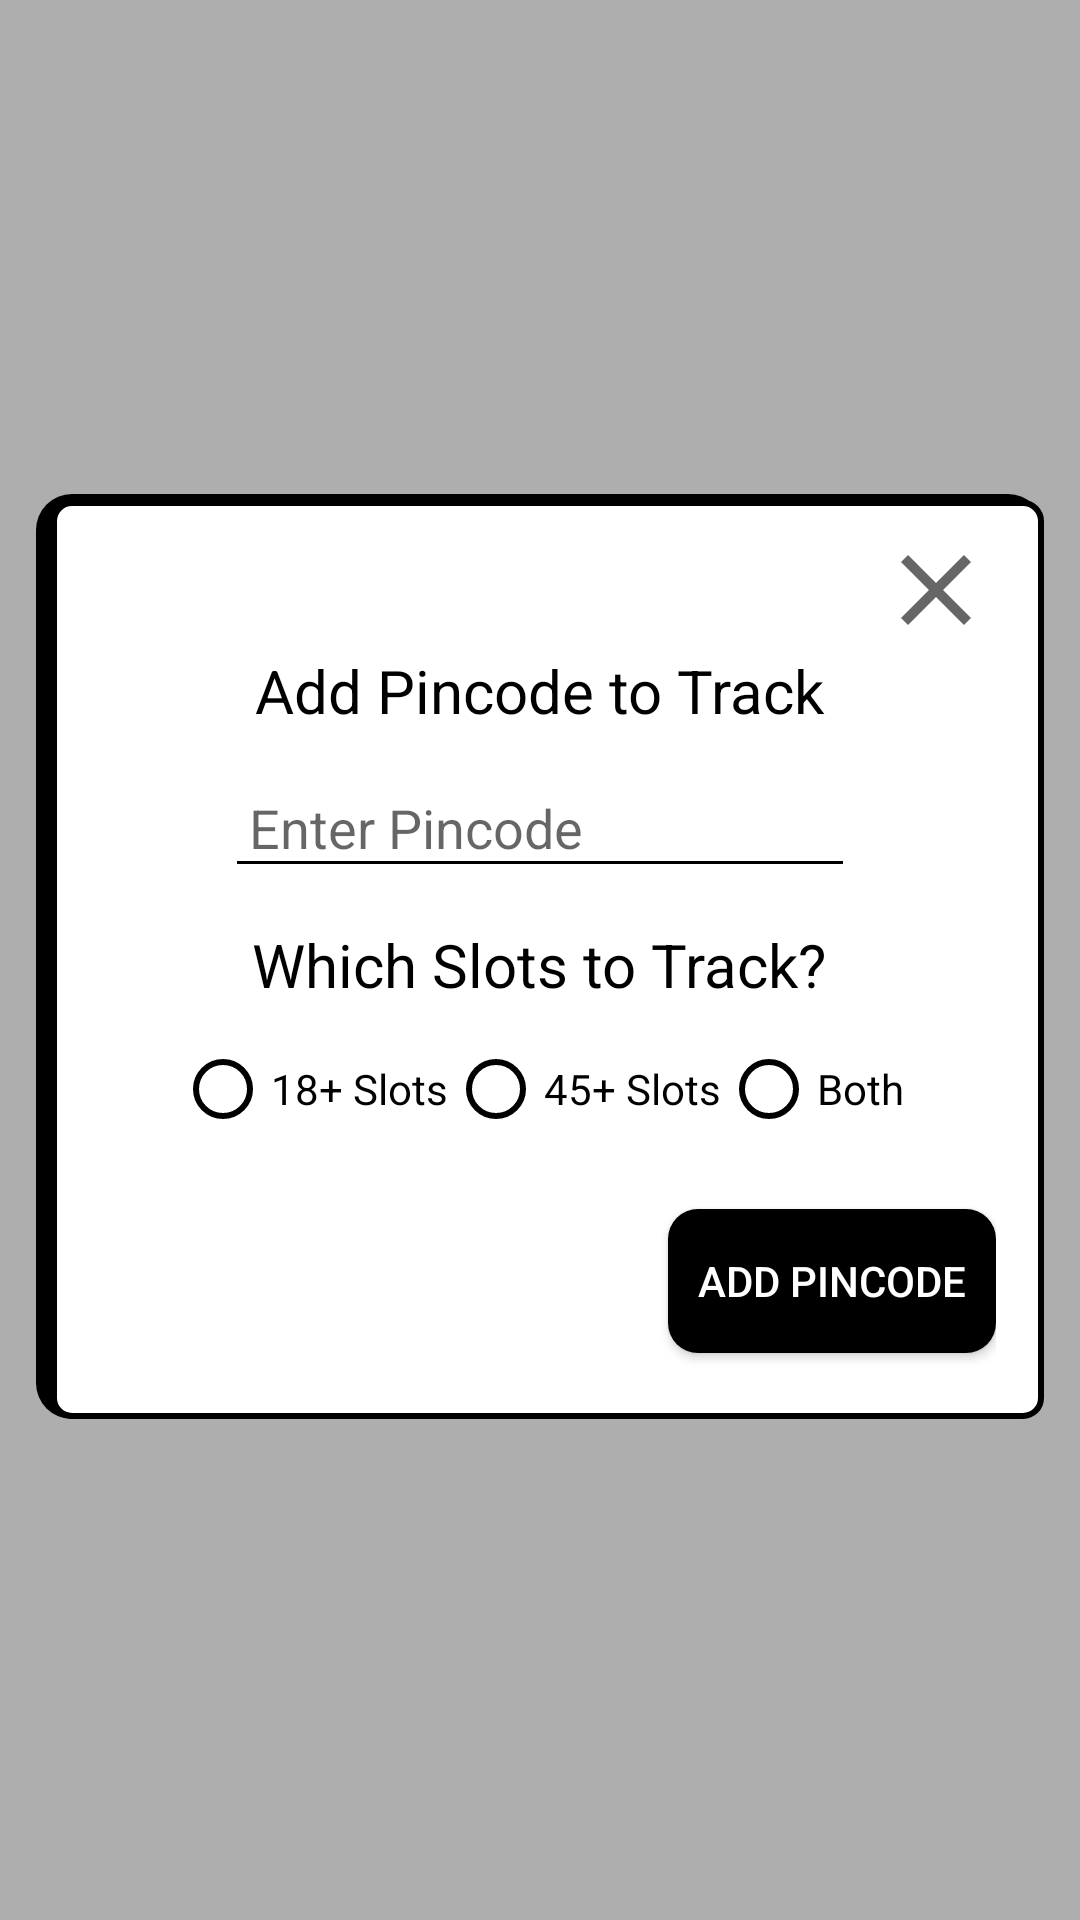

Icon bounding boxes for this 1080w x 1920h phone screenshot, format [x1,y1,x2,y2]:
close popup: [901,555,971,625]
